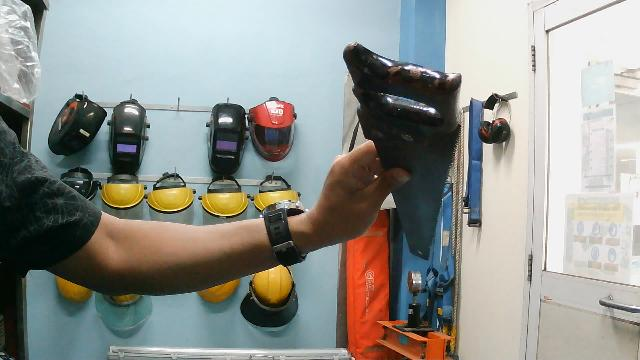gergaji_kayu: (339, 41, 465, 263)
